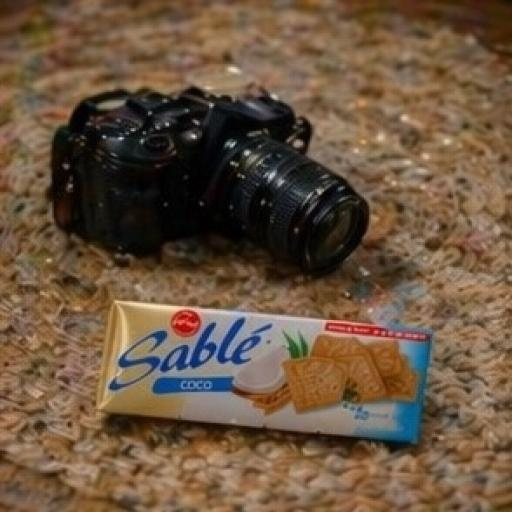sabl: (61, 244, 467, 493)
